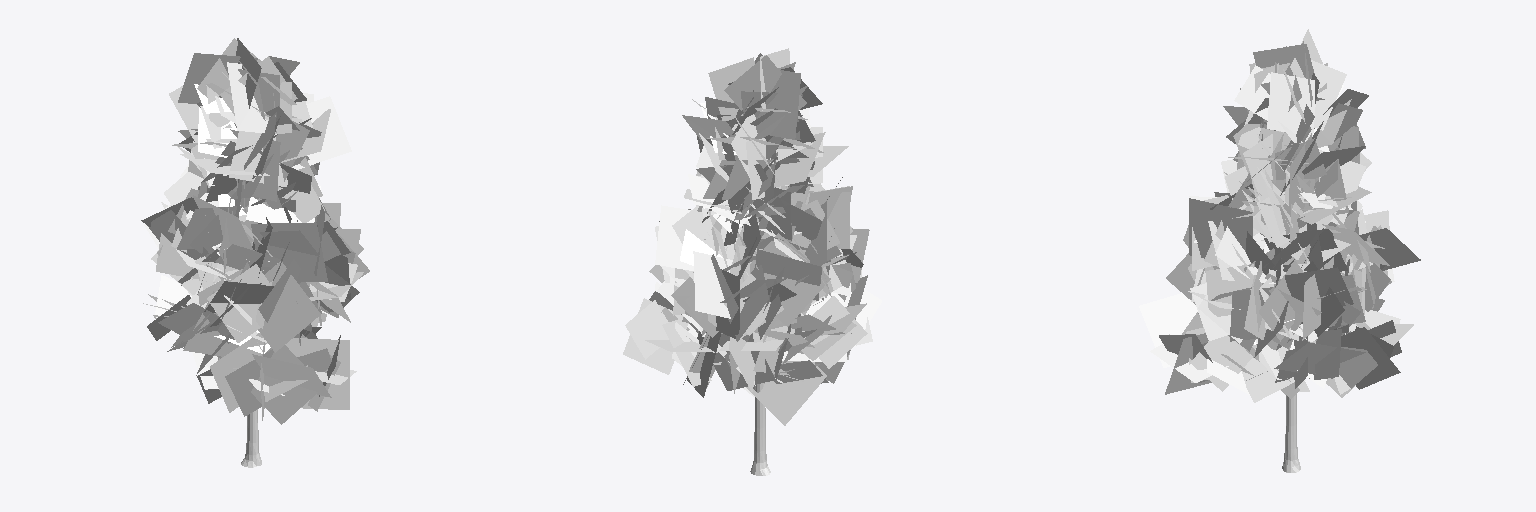
The model's file is Norway_Spruce_Model_0.obj.
3 renders of one model, left to right at view 1: azimuth 30°, elevation 25°; view 2: azimuth 150°, elevation 25°; view 3: azimuth 270°, elevation 25°, orthographic.
Visible parts, largest first — view 1: Foliage__leafcard, Bark; view 2: Foliage__leafcard, Bark; view 3: Foliage__leafcard, Bark.
Boxes of the visible parts, x1,y1,x2,y2 form: Foliage__leafcard: [141, 38, 369, 424]; Bark: [241, 409, 261, 467]; Foliage__leafcard: [623, 48, 881, 425]; Bark: [750, 383, 770, 475]; Foliage__leafcard: [1139, 29, 1420, 402]; Bark: [1282, 394, 1300, 472].
Bounding box in the file's own units: 8.25 × 16 × 9.67.